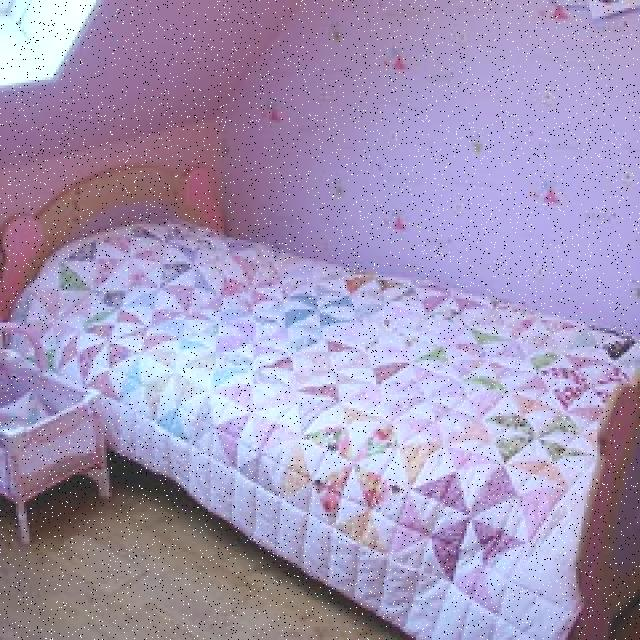bed: (13, 161, 640, 575)
